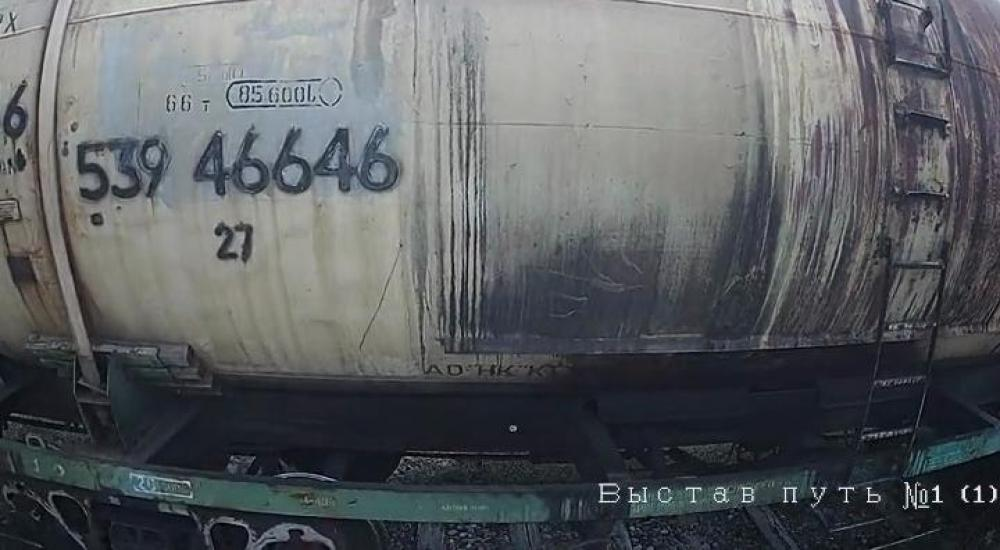Wagon-number: (72, 120, 407, 204)
